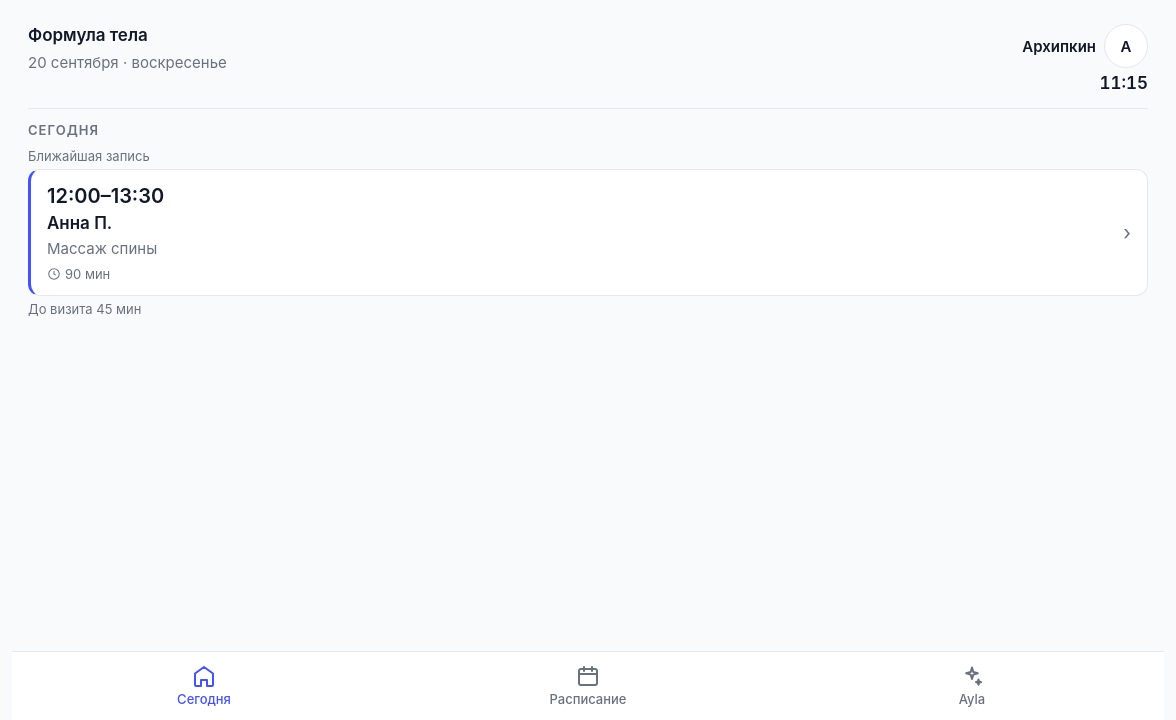
Test: системные состояния — через SystemState по DRF-1181 (М-6, DRF-2157) › обновление не удалось при данных — «Не удалось обновить» · «Показаны последние данные», данные на месте
Expected: the text "Анна П." is shown, top-left (47, 213), bottom-right (112, 233)
Press the mouse on the element "Сегодня" at (588, 360), box top-left (12, 0), bottom-right (1164, 719)
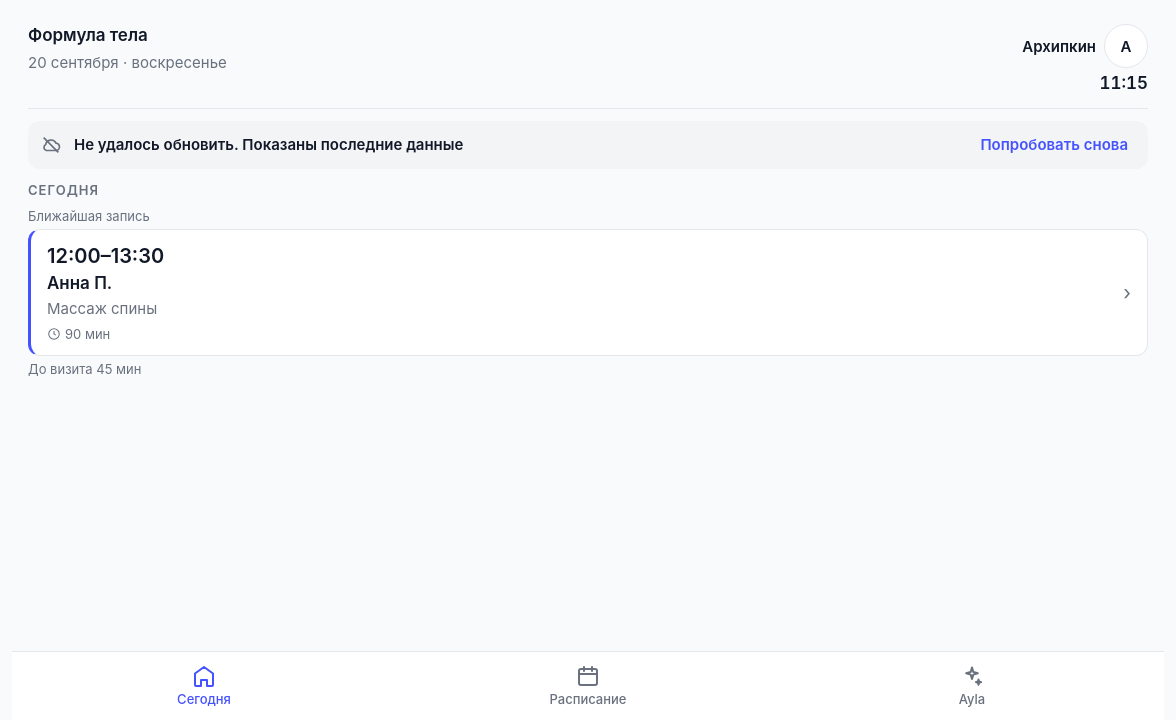
Expected: the text "Анна П." is shown, top-left (47, 273), bottom-right (112, 293)
Expected: the text "Не удалось обновить. Показаны последние данные" is shown, top-left (74, 135), bottom-right (463, 154)
